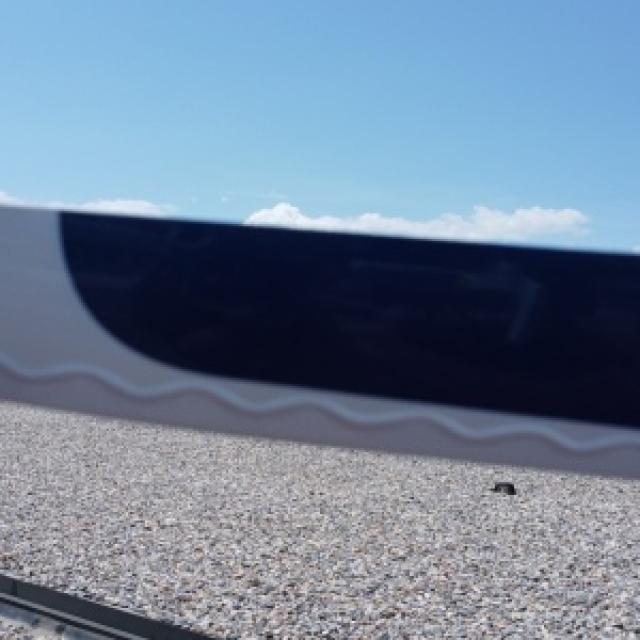healthy: (4, 203, 638, 474)
